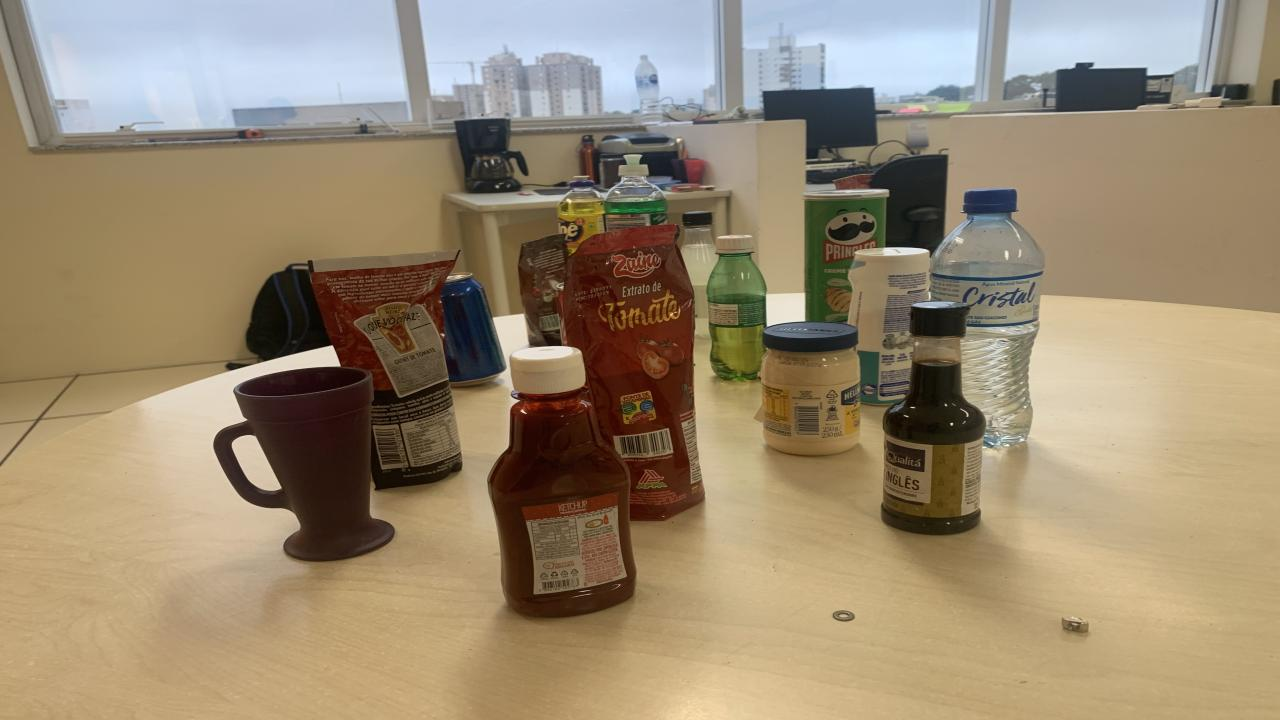Cleaner-Cleanup_Items: (848, 248, 930, 405)
Coffee-Pantry_Items: (518, 234, 568, 347)
Detergent-Cleanup_Items: (602, 154, 668, 231), (558, 176, 605, 255)
English_Sauce-Pantry_Items: (880, 302, 985, 534)
Guarana-Drinks: (708, 234, 768, 381)
Ketchup-Pantry_Items: (488, 347, 635, 617)
Mayonnaise-Pantry_Items: (760, 321, 860, 456)
Pringles-Snacks: (805, 189, 890, 322)
Tomato_Sauce-Pantry_Items: (562, 225, 705, 519), (310, 251, 462, 488)
Tonic-Drinks: (440, 272, 505, 386)
Water_Bottle-Drinks: (930, 188, 1045, 446)
